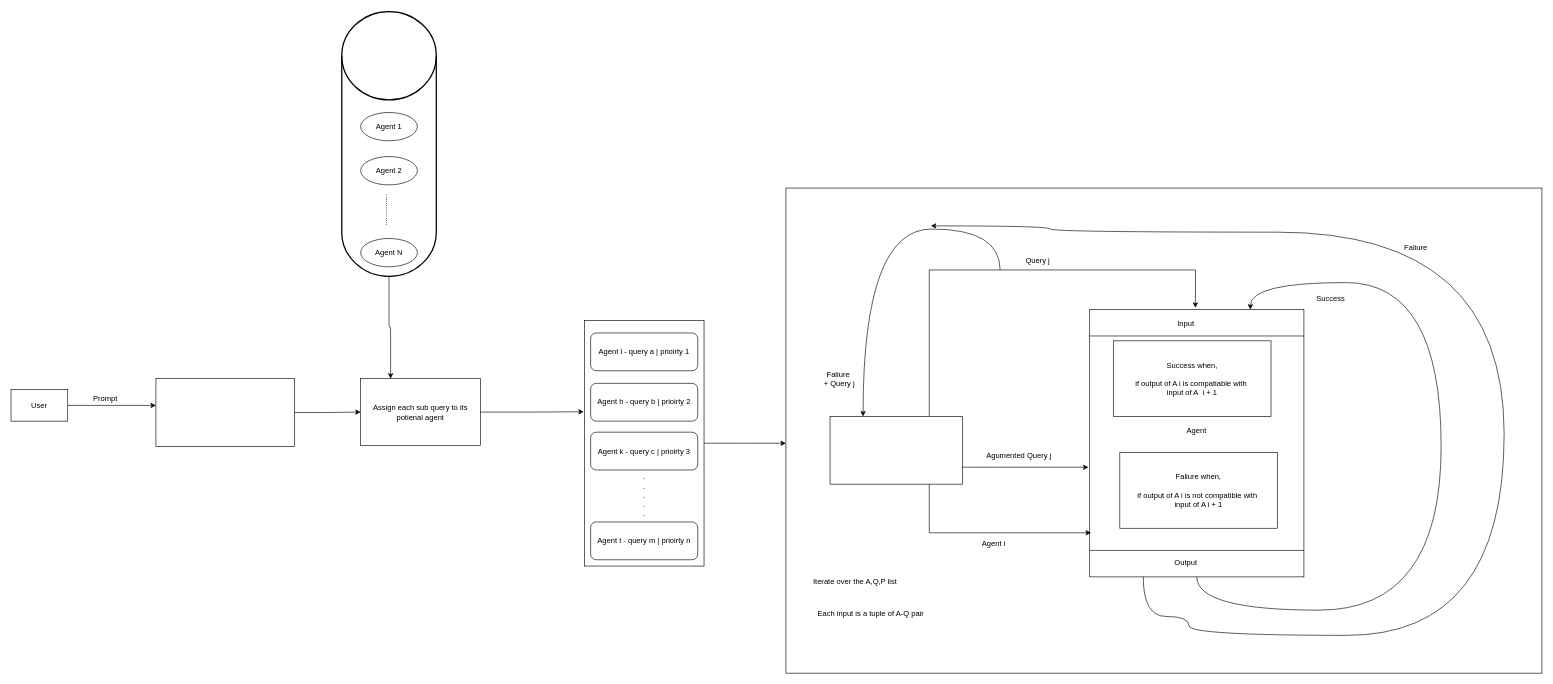
The diagram is 1553 pixels wide and 684 high, and some of its shapes have lost their labels. The box of each missing label's shape, as (x1, y1, x2, y2) in pixels:
Agent Execution Supervisor: (829, 416, 962, 484)
Break into sub queries (say n) and assign priority/flow of control and data: (155, 378, 295, 446)
